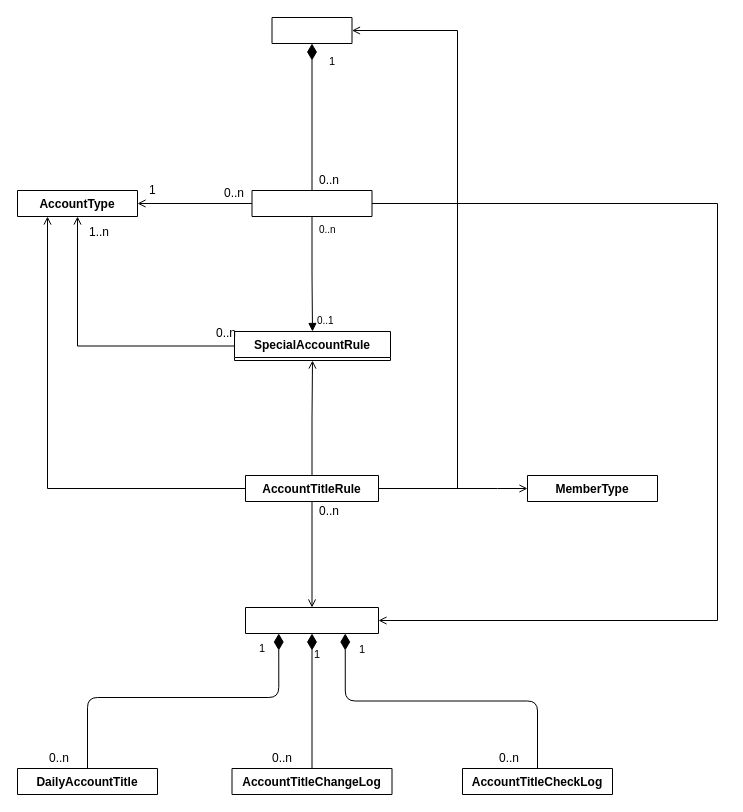
Image size: 743x812. Some labels were removed from this diagram. Each missing label, with the centre of its shape:
AccountTitle: pixel 311 620
Member: pixel 311 30
MemberAccount: pixel 311 203
